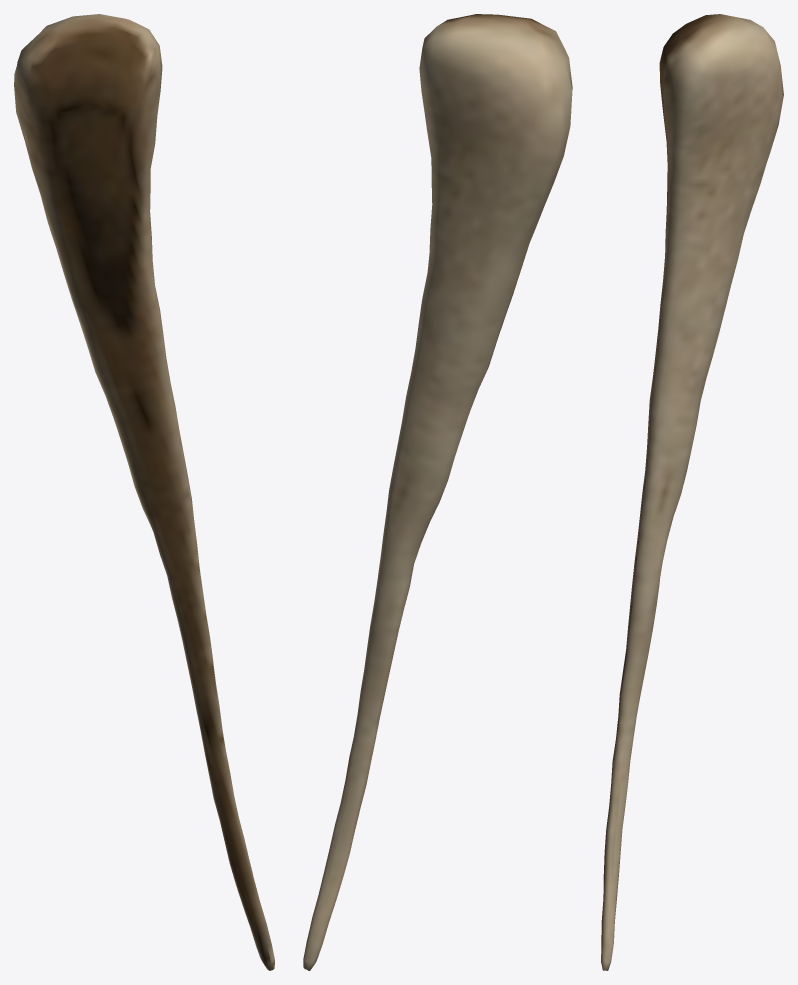
File: Splint_Fourth_Metatarsal.glb
3 views of the same model, side by side, from view 1: azimuth 30°, elevation 25°; view 2: azimuth 210°, elevation 25°; view 3: azimuth 270°, elevation 25° (orthographic). The views are drawn at different scales.
Parts seen in each view (by area): view 1: L_Bck_Splint_Fourth_Metatarsal; view 2: L_Bck_Splint_Fourth_Metatarsal; view 3: L_Bck_Splint_Fourth_Metatarsal.
Boxes of the visible parts, left/top/right/bottom form: L_Bck_Splint_Fourth_Metatarsal: left=14, top=14, right=274, bottom=970; L_Bck_Splint_Fourth_Metatarsal: left=303, top=14, right=572, bottom=970; L_Bck_Splint_Fourth_Metatarsal: left=601, top=14, right=783, bottom=970.
Size of the model in its own units: 0.0386 by 0.1819 by 0.0337.
Materials: 1 (1 with a texture image).
